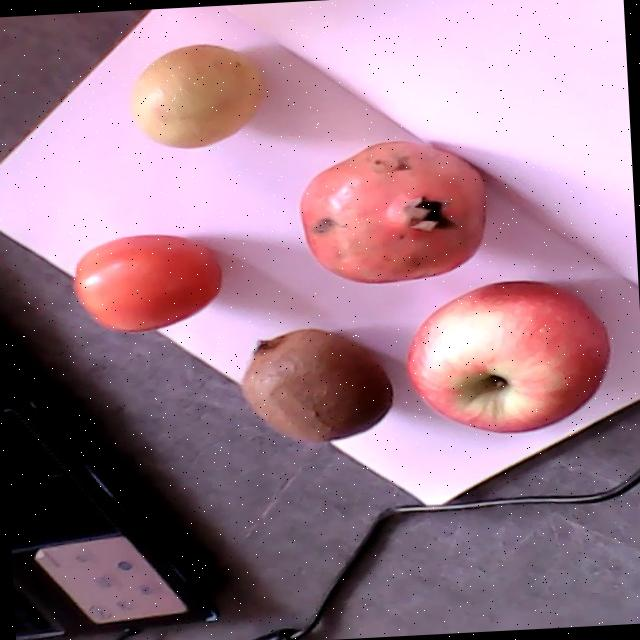apple: (406, 281, 611, 431)
kiwi: (241, 328, 393, 443)
lemon: (134, 45, 263, 148)
pomegranate: (301, 140, 485, 282)
tomato: (74, 234, 222, 331)
